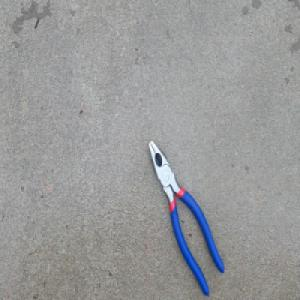Pliers: (147, 138, 225, 298)
